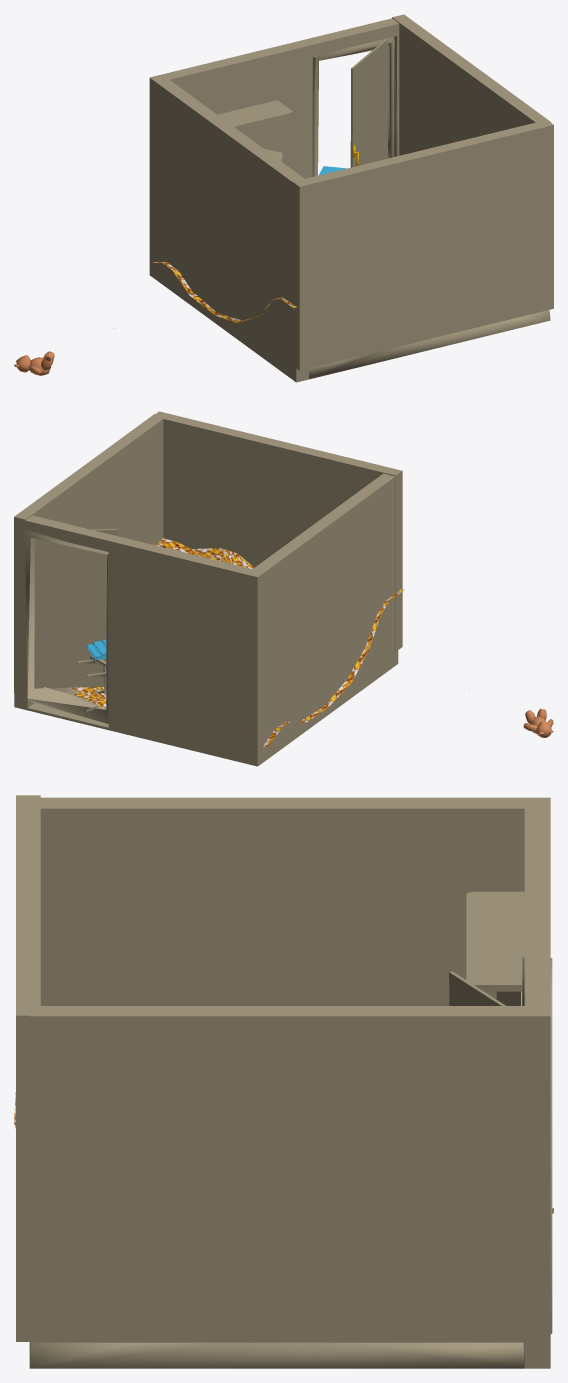
The model's file is Level2.fbx.
3 views of the same model, one above another, from view 1: azimuth 30°, elevation 25°; view 2: azimuth 150°, elevation 25°; view 3: azimuth 270°, elevation 25° (orthographic). The views are drawn at different scales.
Parts seen in each view (by area): view 1: Cube.034, Cube.002, Cube.022, Cube, Cube.003, Cube.028, Object_4.001, Plane; view 2: Cube.002, Cube.034, Cube.022, Cube.003, Plane, Object_4.001; view 3: Cube.034, Cube.002, Cube, Cube.028, Cube.003, Cube.022.
Part boxes in pixels (x1,y1,x2,y2): Cube.034: (292, 14, 553, 370); Cube.002: (149, 18, 399, 382); Cube.022: (350, 38, 389, 167); Cube: (309, 310, 550, 379); Cube.003: (312, 37, 398, 176); Cube.028: (218, 100, 292, 129); Object_4.001: (14, 351, 54, 375); Plane: (151, 261, 406, 323); Cube.002: (14, 473, 398, 766); Cube.034: (14, 411, 402, 692); Cube.022: (34, 529, 117, 688); Cube.003: (24, 529, 108, 723); Plane: (68, 538, 404, 747); Object_4.001: (523, 708, 553, 737); Cube.034: (16, 795, 550, 1342); Cube.002: (40, 797, 550, 1368); Cube: (29, 1342, 524, 1368); Cube.028: (466, 891, 524, 991); Cube.003: (522, 957, 552, 1354); Cube.022: (449, 971, 505, 1005).
Bounding box in the file's own units: 9.64 × 3.84 × 5.34.
